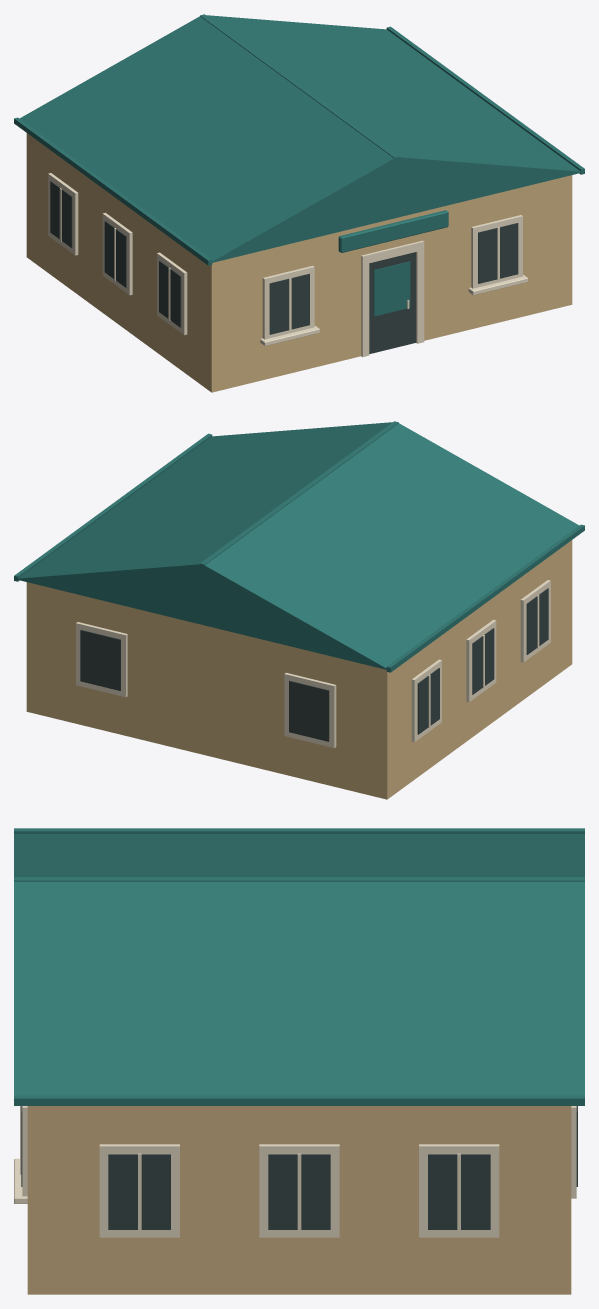
The model's file is workshop.glb.
3 renders of one model, top to bottom at view 1: azimuth 30°, elevation 25°; view 2: azimuth 150°, elevation 25°; view 3: azimuth 270°, elevation 25°, orthographic. The views are drawn at different scales.
Visible parts, largest first — view 1: batch-workshop-root-teal, wall-volume, batch-workshop-root-cream, batch-workshop-root-dark, door-panel; view 2: batch-workshop-root-teal, wall-volume, batch-workshop-root-dark, batch-workshop-root-cream; view 3: batch-workshop-root-teal, wall-volume, batch-workshop-root-dark, batch-workshop-root-cream.
Part boxes in pixels (<box>): batch-workshop-root-teal: <box>14,14,584,316</box>; wall-volume: <box>26,133,572,392</box>; batch-workshop-root-cream: <box>48,173,528,357</box>; batch-workshop-root-dark: <box>50,181,518,334</box>; door-panel: <box>369,252,415,353</box>; batch-workshop-root-teal: <box>14,421,584,672</box>; wall-volume: <box>26,540,572,799</box>; batch-workshop-root-dark: <box>80,588,548,741</box>; batch-workshop-root-cream: <box>76,580,550,748</box>; batch-workshop-root-teal: <box>14,828,584,1105</box>; wall-volume: <box>27,1106,571,1294</box>; batch-workshop-root-dark: <box>21,1106,577,1229</box>; batch-workshop-root-cream: <box>14,1106,576,1237</box>.
Bounding box in the file's own units: 9.4 × 4.65 × 8.4.
